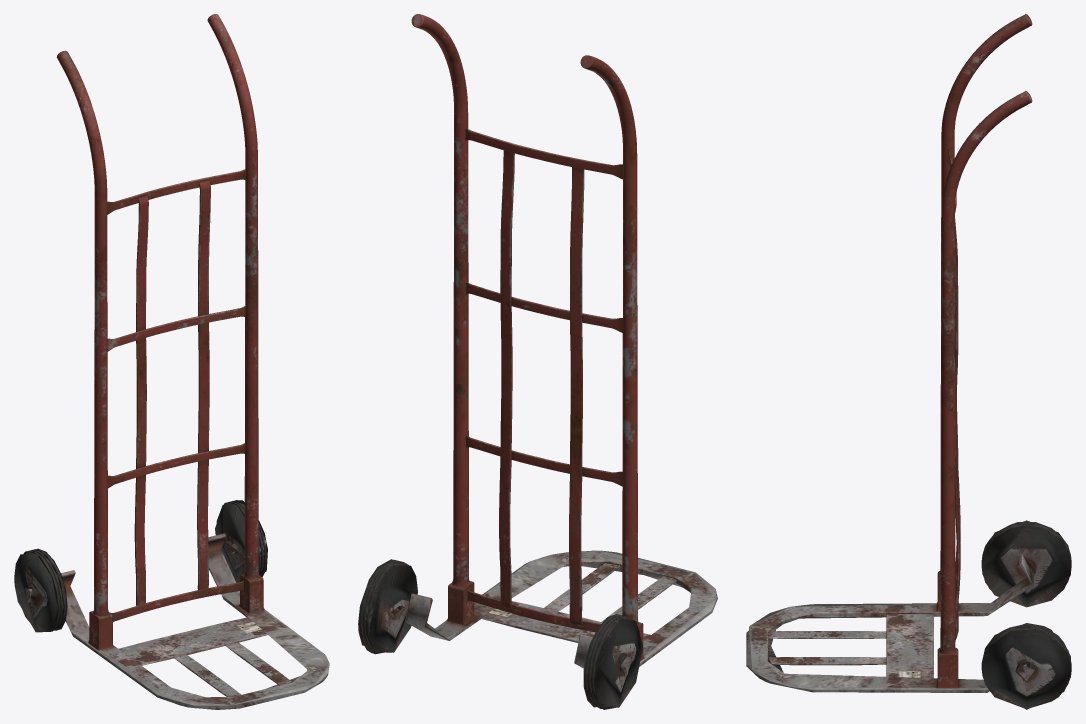
The model's file is hand_truck.glb.
3 views of the same model, side by side, from view 1: azimuth 30°, elevation 25°; view 2: azimuth 150°, elevation 25°; view 3: azimuth 270°, elevation 25° (orthographic). The views are drawn at different scales.
Parts seen in each view (by area): view 1: hand_truck; view 2: hand_truck; view 3: hand_truck.
Boxes of the visible parts, x1,y1,x2,y2 form: hand_truck: (14, 14, 329, 709); hand_truck: (358, 14, 717, 709); hand_truck: (746, 14, 1071, 709).
Bounding box in the file's own units: 0.5789 × 1.4 × 0.6877.
Materials: 1 (1 with a texture image).
